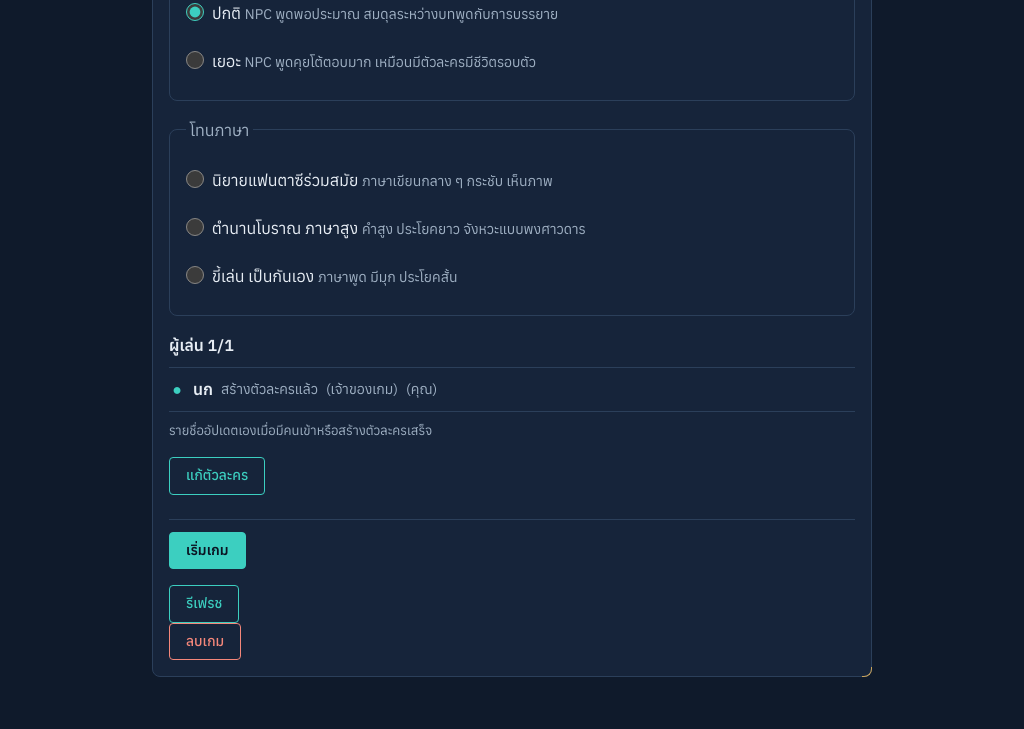
it: Character creation step 1 (GEN-047) › C3: with a character already, the lobby offers to view it and no second create form opens
(page scrolled)
Click the button "แก้ตัวละคร" at (217,476), box [169, 457, 265, 495]
(page scrolled)
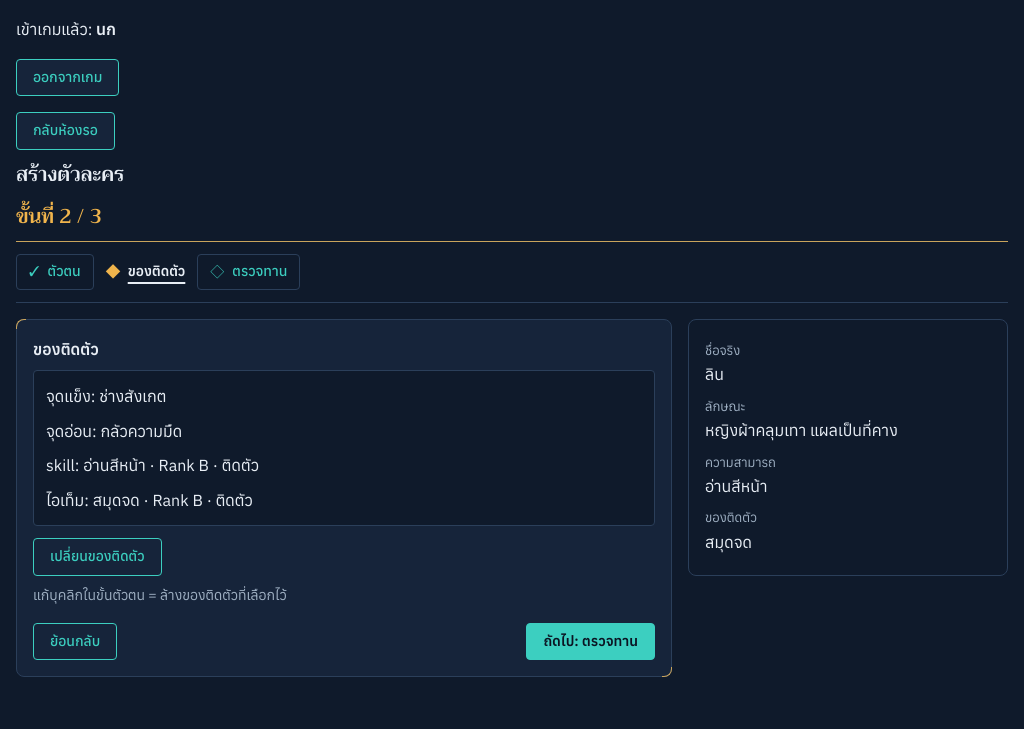
Expected: the text "ขั้นที่ 2 / 3" is shown, [16, 199, 102, 234]
Expected: the list named "ของติดตัวที่เลือก" is shown, [33, 370, 655, 526]
Click the button "ถัดไป: ตรวจทาน" at (591,641), box [526, 623, 655, 660]
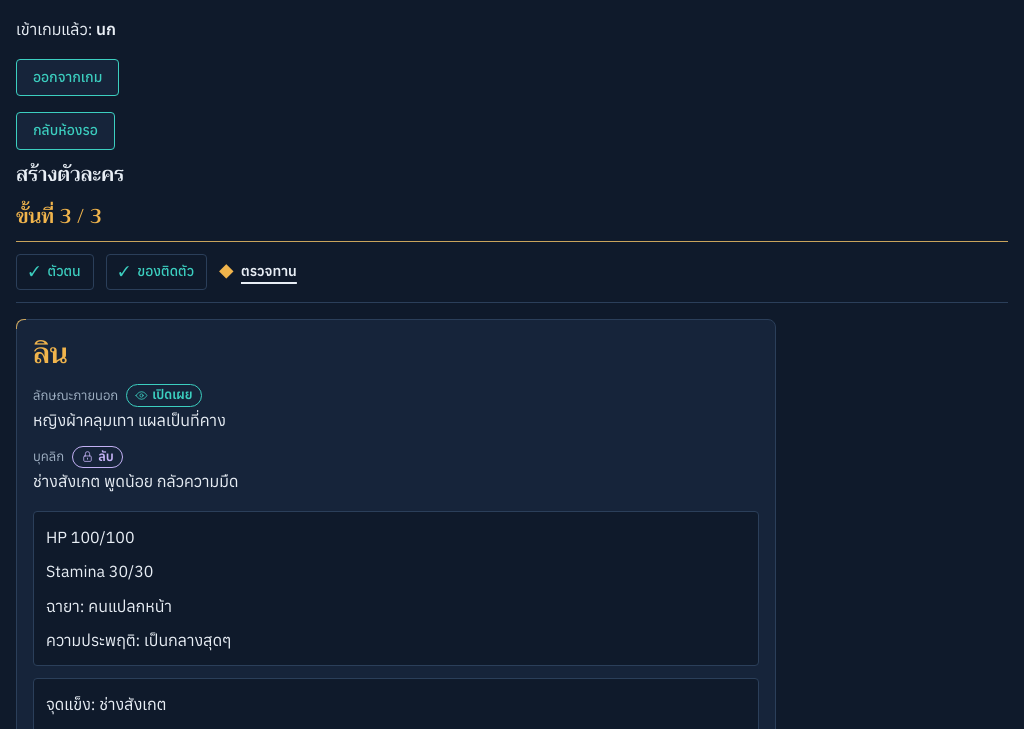
Expected: the list item "ฉายา: คนแปลกหน้า" is shown, [46, 596, 172, 616]
